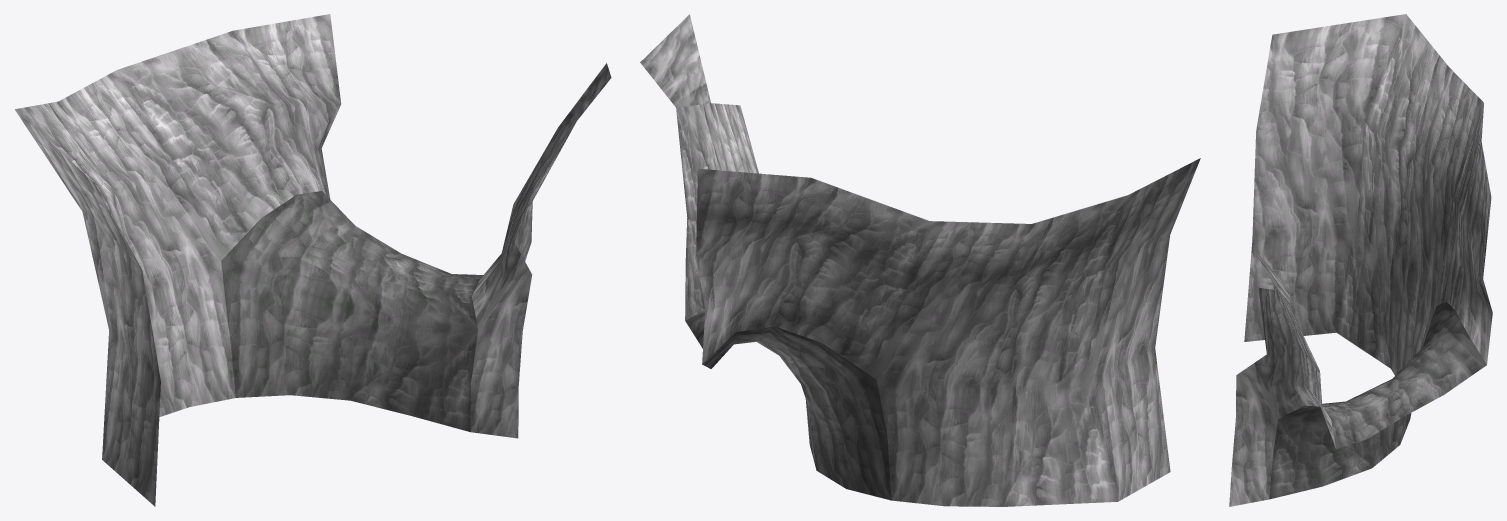
Rendered from SWORDLIGHT20_PS-AREA03_07.fbx.
3 renders of one model, left to right at view 1: azimuth 30°, elevation 25°; view 2: azimuth 150°, elevation 25°; view 3: azimuth 270°, elevation 25°, orthographic. The views are drawn at different scales.
Parts seen in each view (by area): view 1: SWORDLIGHT20_PS-AREA03_07; view 2: SWORDLIGHT20_PS-AREA03_07; view 3: SWORDLIGHT20_PS-AREA03_07.
Boxes of the visible parts, x1,y1,x2,y2 form: SWORDLIGHT20_PS-AREA03_07: [15, 14, 611, 506]; SWORDLIGHT20_PS-AREA03_07: [640, 14, 1200, 506]; SWORDLIGHT20_PS-AREA03_07: [1229, 14, 1492, 506].
Bounding box in the file's own units: 207849 × 134195 × 100057.
Materials: 2 (2 with a texture image).
